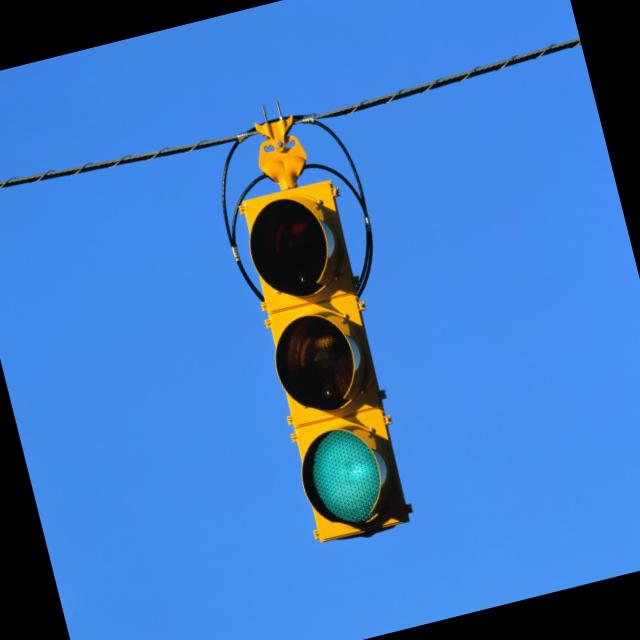green-lights: (294, 421, 394, 538)
